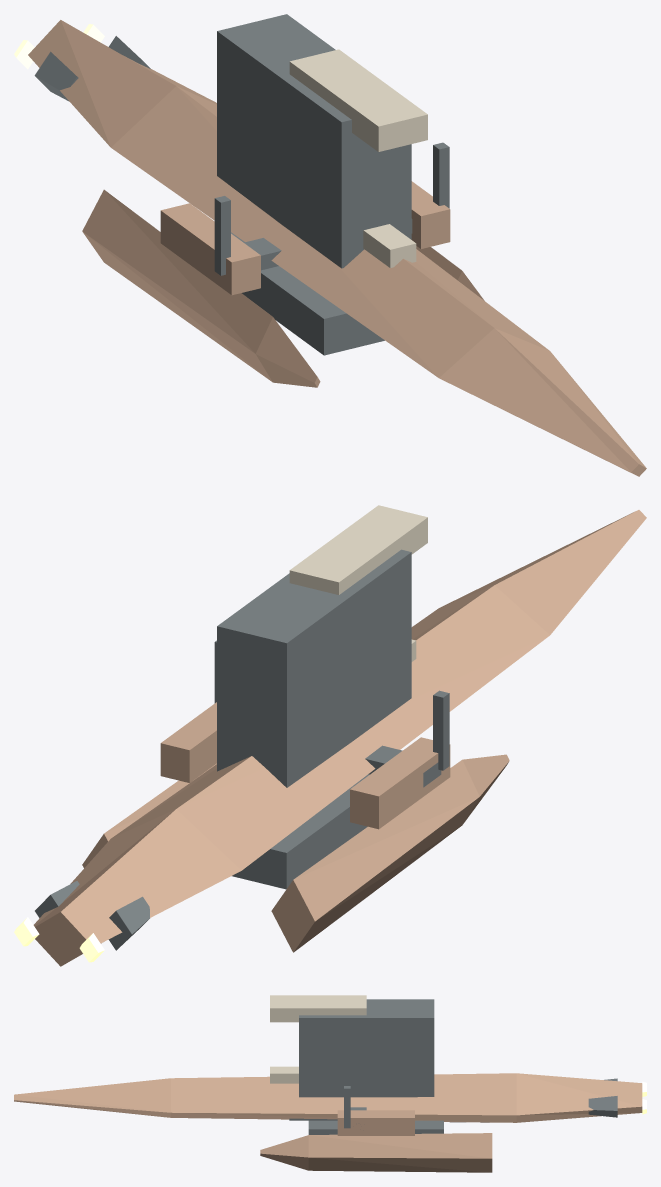
3 renders of one model, top to bottom at view 1: azimuth 30°, elevation 25°; view 2: azimuth 150°, elevation 25°; view 3: azimuth 270°, elevation 25°, orthographic. The views are drawn at different scales.
Bounding box in the file's own units: 2.72 × 3 × 11.79.
